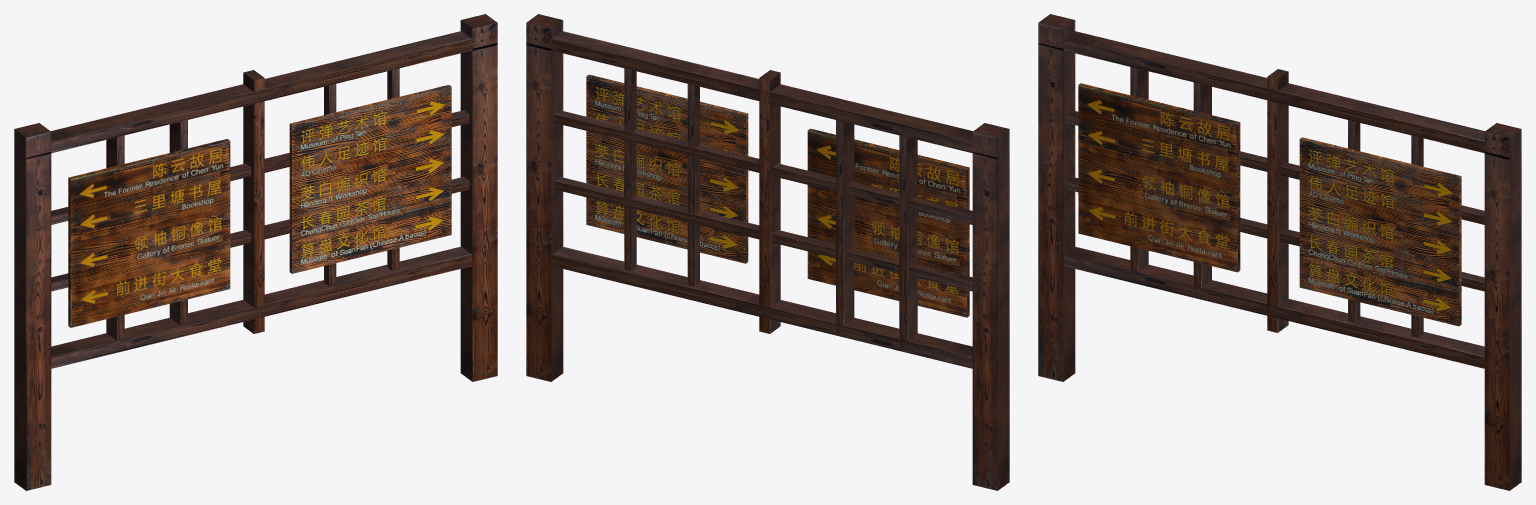
File: Prop_RoadGuide12.FBX
3 views of the same model, side by side, from view 1: azimuth 30°, elevation 25°; view 2: azimuth 150°, elevation 25°; view 3: azimuth 330°, elevation 25° (orthographic).
Visible parts, largest first — view 1: Prop_RoadGuide12; view 2: Prop_RoadGuide12; view 3: Prop_RoadGuide12.
Part boxes in pixels (x1,y1,x2,y2): Prop_RoadGuide12: (14,14,497,490); Prop_RoadGuide12: (526,14,1009,490); Prop_RoadGuide12: (1038,14,1521,490).
Size of the model in its own units: 219 by 11.36 by 157.
